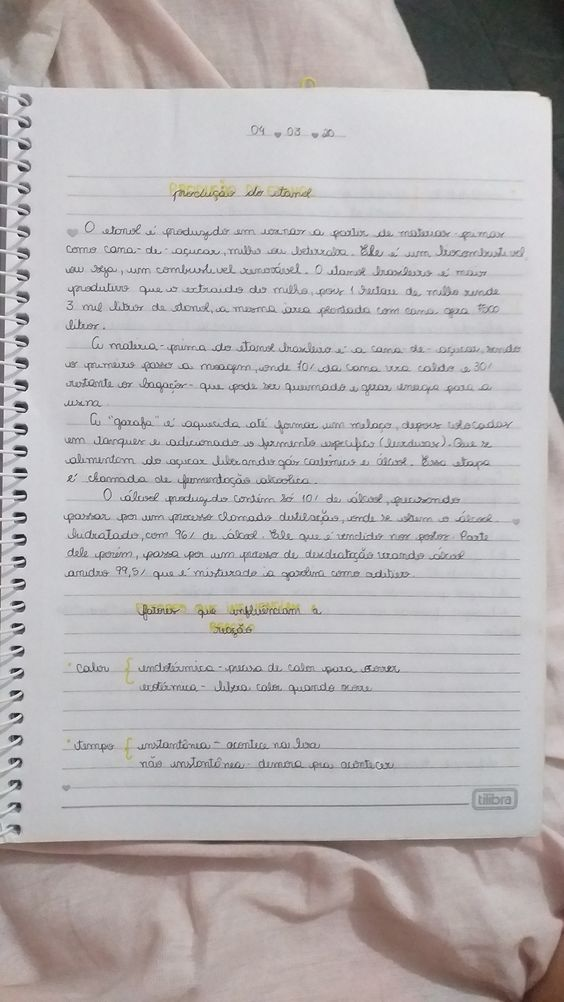page: (40, 95, 544, 835)
